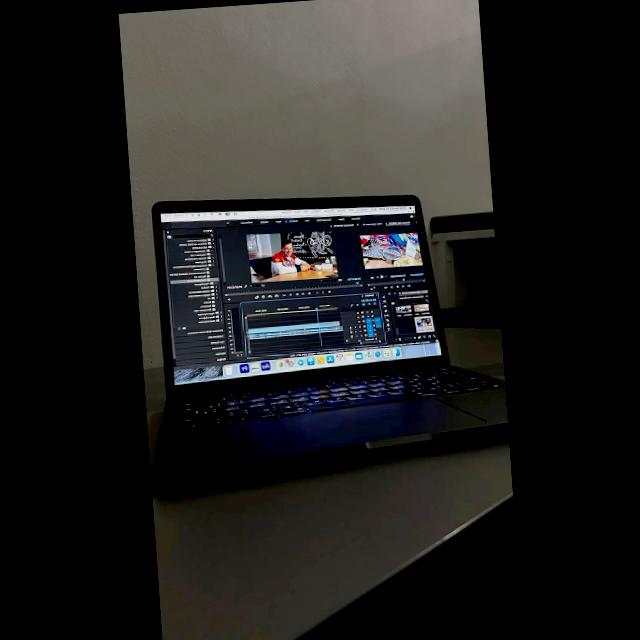laptop: (132, 177, 510, 491)
